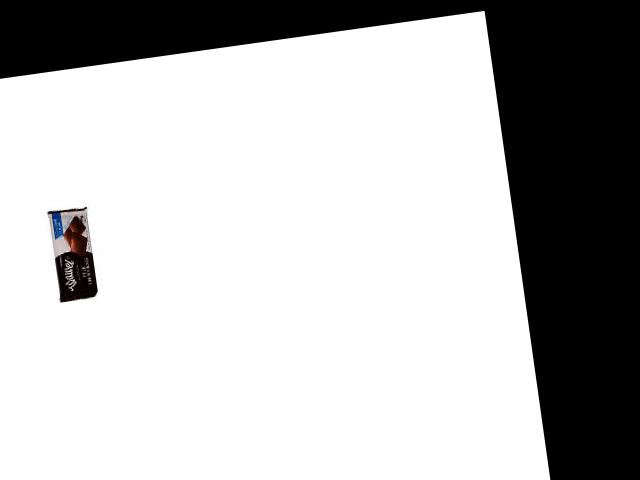chocolate: (45, 205, 101, 301)
